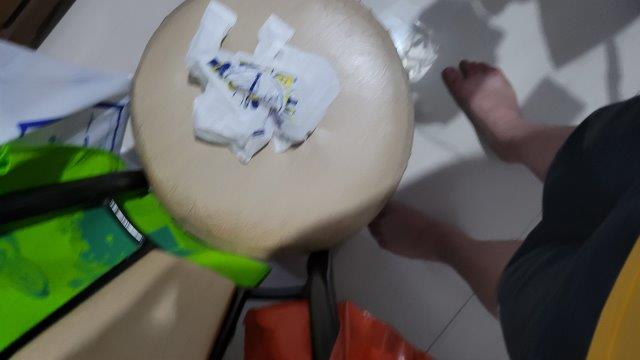plastik: (187, 2, 339, 157)
